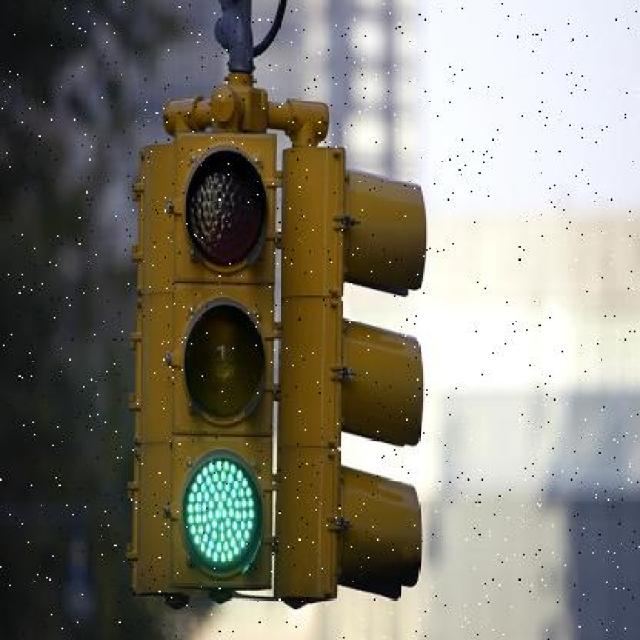green-light: (66, 83, 421, 613)
